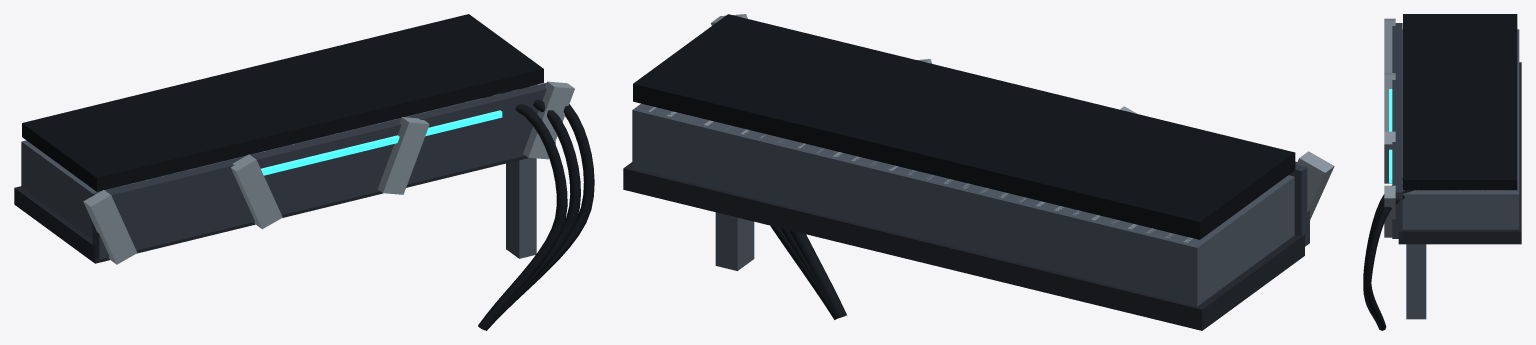
Rendered from pc-gpu.glb.
3 renders of one model, left to right at view 1: azimuth 30°, elevation 25°; view 2: azimuth 150°, elevation 25°; view 3: azimuth 270°, elevation 25°, orthographic. The views are drawn at different scales.
Parts seen in each view (by area): view 1: gpu (×13); view 2: gpu (×8); view 3: gpu (×13).
Boxes of the visible parts, box(x1,y1,x2,y2) form: gpu (×13): box(14, 14, 594, 330); gpu (×8): box(623, 14, 1334, 330); gpu (×13): box(1363, 14, 1521, 330).
Bounding box in the file's own units: 3.7 × 1.67 × 1.35.
